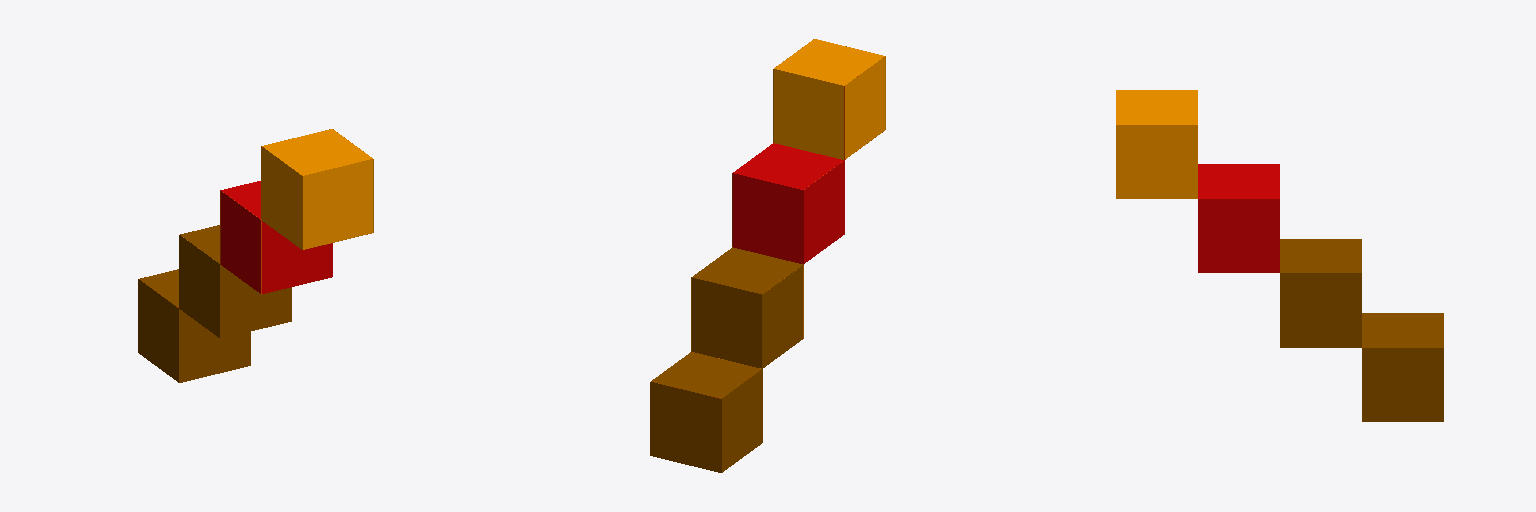
3 renders of one model, left to right at view 1: azimuth 30°, elevation 25°; view 2: azimuth 150°, elevation 25°; view 3: azimuth 270°, elevation 25°, orthographic.
Visible parts, largest first — view 1: Torch_Torch.001; view 2: Torch_Torch.001; view 3: Torch_Torch.001.
Part boxes in pixels (x1,y1,x2,y2): Torch_Torch.001: (138,129,373,382); Torch_Torch.001: (650,39,885,472); Torch_Torch.001: (1116,90,1443,421).
Bounding box in the file's own units: 0.1 × 0.4 × 0.4.
1 materials, 1 textured.